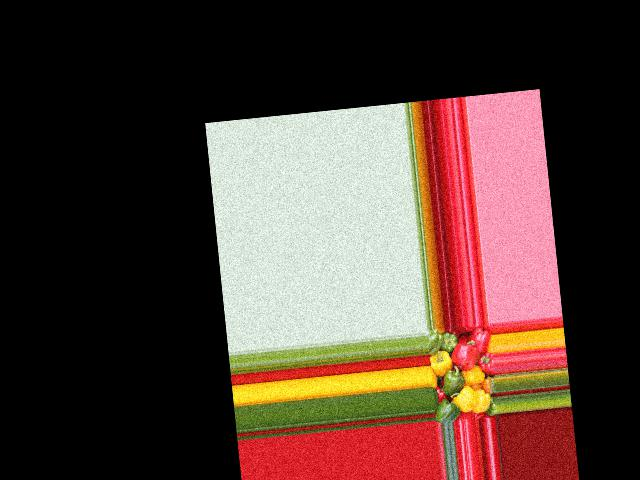bell_pepper: (485, 393, 498, 415)
